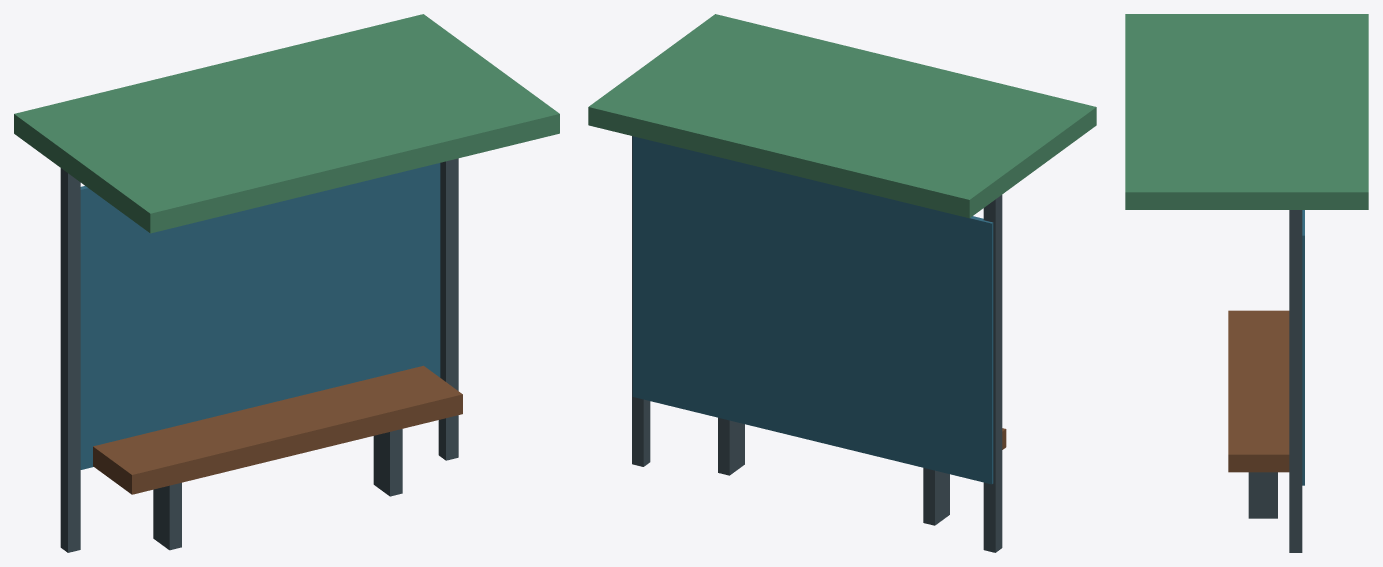
Rendered from bus_shelter.glb.
3 views of the same model, side by side, from view 1: azimuth 30°, elevation 25°; view 2: azimuth 150°, elevation 25°; view 3: azimuth 270°, elevation 25° (orthographic). The views are drawn at different scales.
Parts seen in each view (by area): view 1: bus_shelter; view 2: bus_shelter; view 3: bus_shelter.
Boxes of the visible parts, bbox=[...] form: bus_shelter: bbox=[14, 14, 559, 552]; bus_shelter: bbox=[588, 14, 1096, 552]; bus_shelter: bbox=[1125, 14, 1368, 552].
Bounding box in the file's own units: 2.6 × 2.48 × 1.5.
